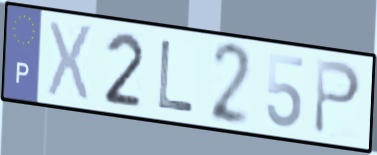2: (208, 38, 254, 129), (102, 30, 146, 112)
5: (264, 51, 306, 131)
L: (155, 37, 197, 116)
P: (311, 56, 364, 138)
X: (44, 17, 96, 106)
